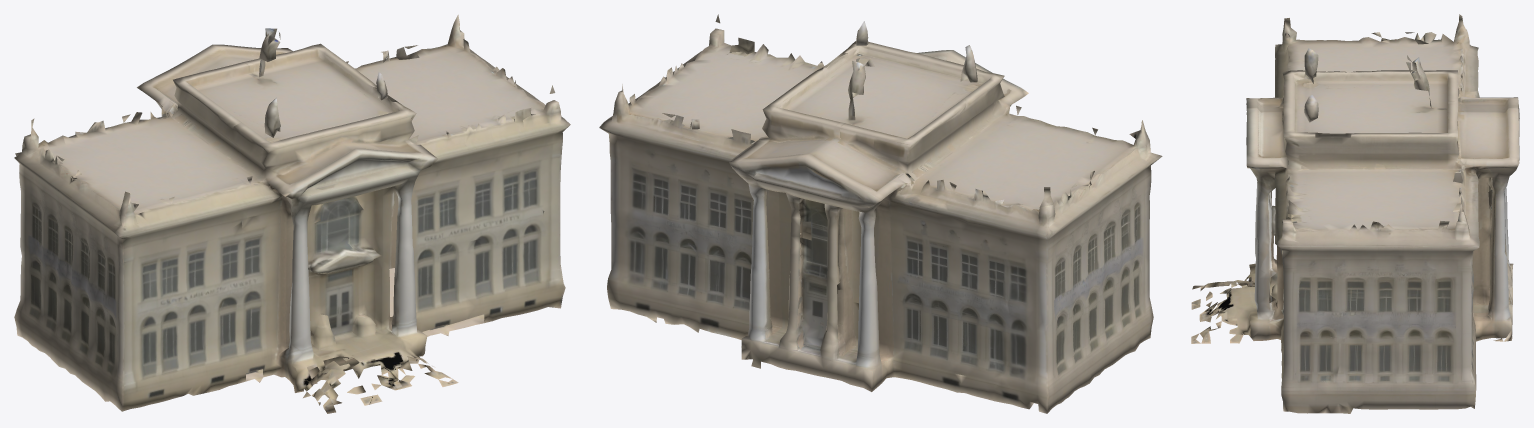
The model's file is 72444ad2-d65b-4a90-bae0-c34ca51601a7.glb.
3 renders of one model, left to right at view 1: azimuth 30°, elevation 25°; view 2: azimuth 150°, elevation 25°; view 3: azimuth 270°, elevation 25°, orthographic. The views are drawn at different scales.
Visible parts, largest first — view 1: Mesh_0; view 2: Mesh_0; view 3: Mesh_0.
Boxes of the visible parts, x1,y1,x2,y2 form: Mesh_0: (14, 14, 570, 413); Mesh_0: (599, 14, 1162, 413); Mesh_0: (1191, 14, 1519, 413).
Bounding box in the file's own units: 16.82 × 10 × 11.53.
Materials: 1 (1 with a texture image).
